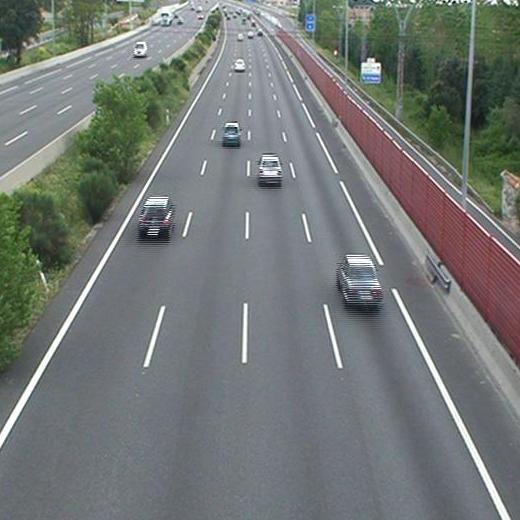car: (337, 256, 382, 304), (138, 198, 174, 235), (258, 156, 282, 183), (223, 123, 240, 143), (233, 58, 245, 71)
